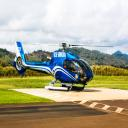helicopter: (15, 42, 115, 92)
